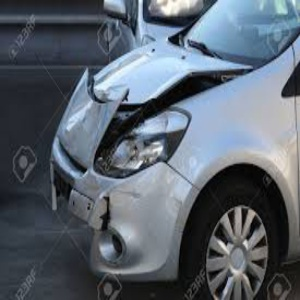bonnet: (63, 61, 182, 137)
bumper: (45, 177, 110, 257)
